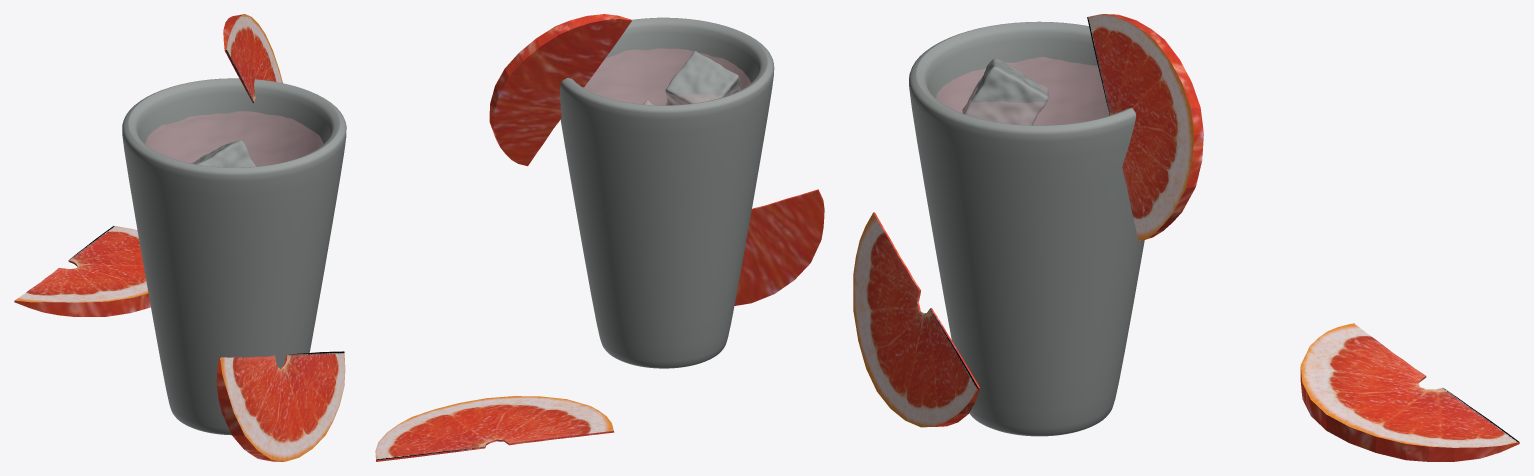
File: GinPomelo.glb
3 renders of one model, left to right at view 1: azimuth 30°, elevation 25°; view 2: azimuth 150°, elevation 25°; view 3: azimuth 270°, elevation 25°, orthographic. The views are drawn at different scales.
Visible parts, largest first — view 1: cup, pomelo, pomelo.001, water, pomelo.002, ice; view 2: cup, pomelo.002, pomelo.001, pomelo, water, ice; view 3: cup, pomelo.001, pomelo.002, pomelo, water, ice.
Part boxes in pixels (x1=…): cup: x1=122, y1=78, x2=346, y2=435; pomelo: x1=216, y1=351, x2=345, y2=461; pomelo.001: x1=14, y1=226, x2=150, y2=316; water: x1=145, y1=111, x2=323, y2=166; pomelo.002: x1=223, y1=14, x2=282, y2=103; ice: x1=191, y1=140, x2=256, y2=167; cup: x1=560, y1=17, x2=774, y2=368; pomelo.002: x1=489, y1=14, x2=631, y2=166; pomelo.001: x1=375, y1=396, x2=614, y2=461; pomelo: x1=734, y1=189, x2=824, y2=305; water: x1=583, y1=48, x2=750, y2=105; ice: x1=665, y1=51, x2=740, y2=105; cup: x1=909, y1=21, x2=1144, y2=436; pomelo.001: x1=1300, y1=323, x2=1519, y2=461; pomelo.002: x1=1087, y1=14, x2=1203, y2=241; pomelo: x1=853, y1=212, x2=980, y2=427; water: x1=936, y1=57, x2=1109, y2=125; ice: x1=962, y1=58, x2=1048, y2=125.
Size of the model in its own units: 5.35 by 8.6 by 12.56.
Materials: 3 (1 with a texture image).
